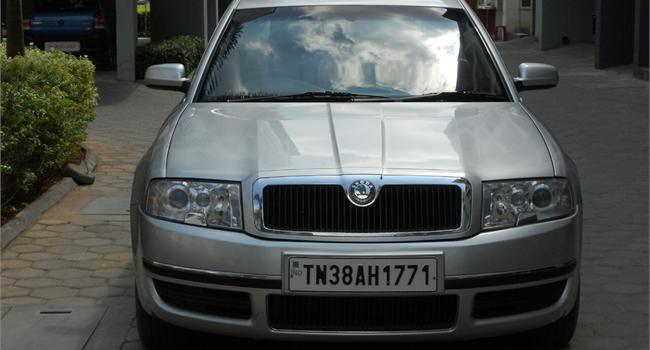T: (301, 261, 315, 287)
